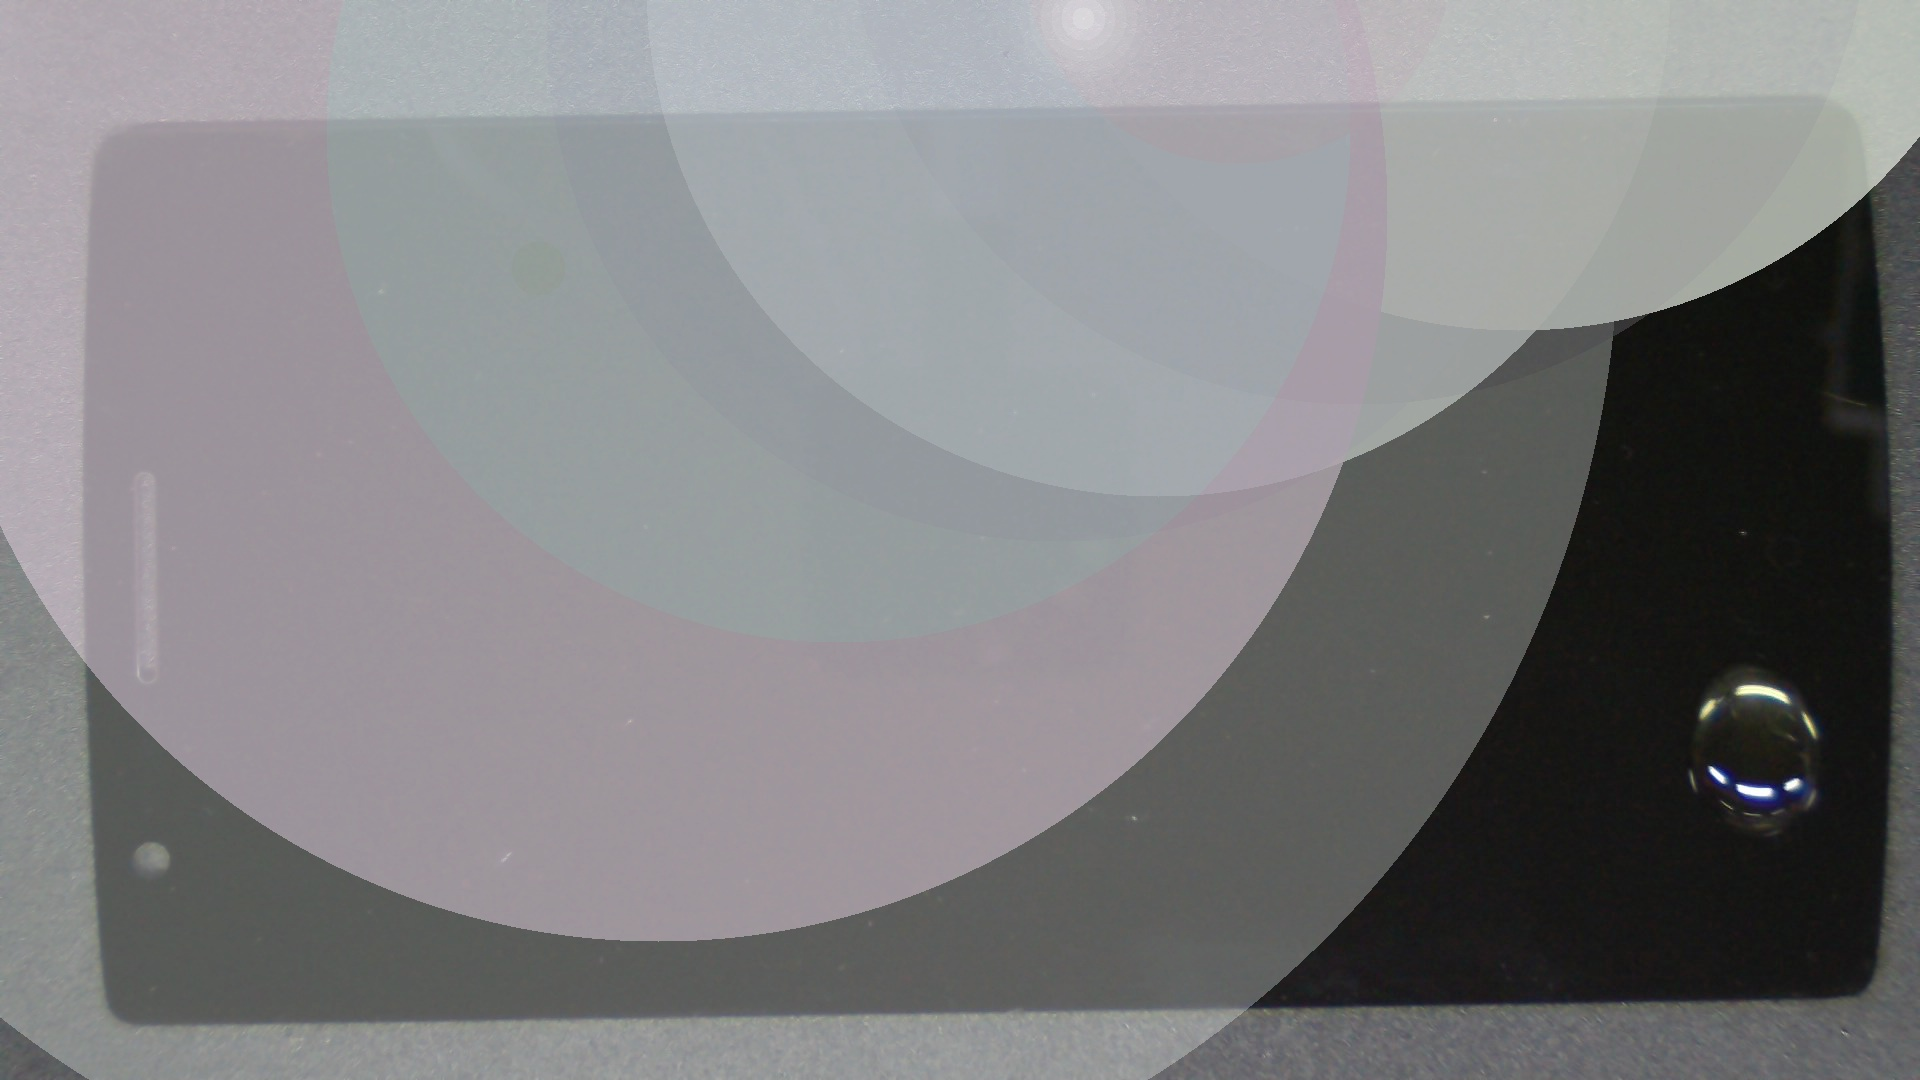oil: (868, 332, 1920, 998)
